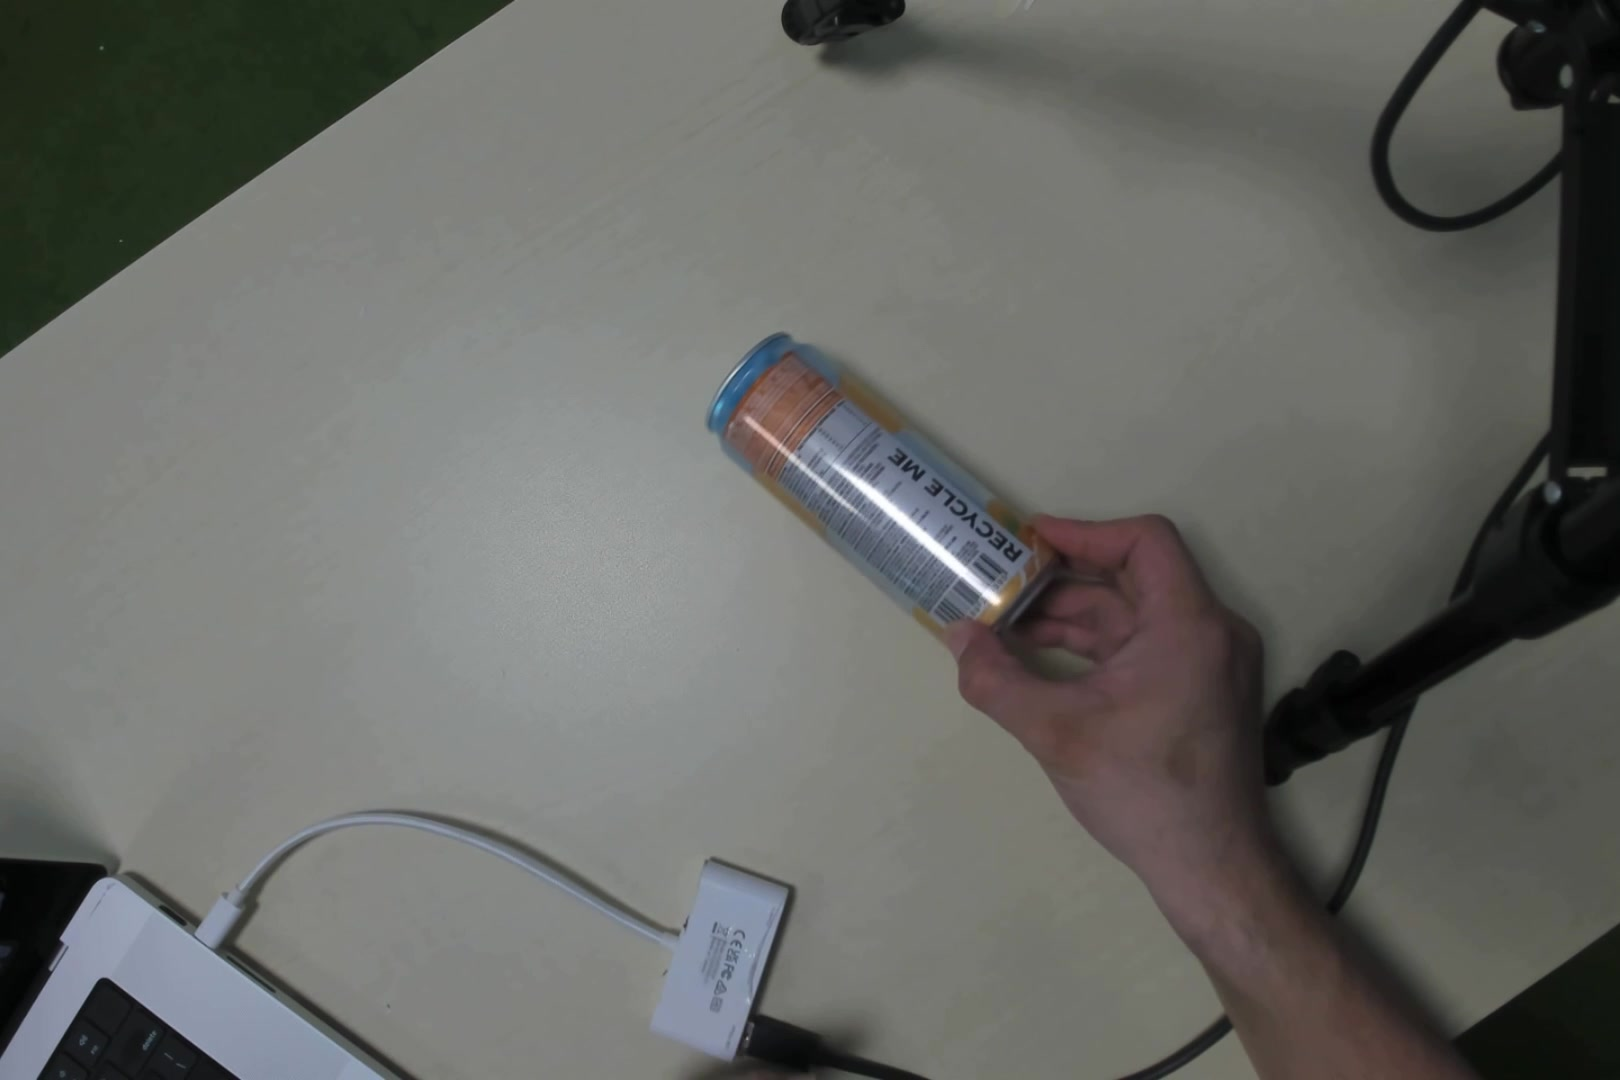SoftDrinks_200-299g_Halal_Healthy: (717, 335, 1031, 629)
